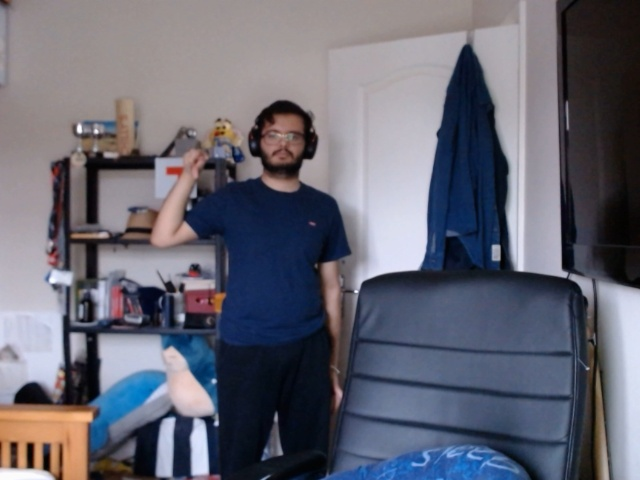No: (177, 142, 212, 189)
